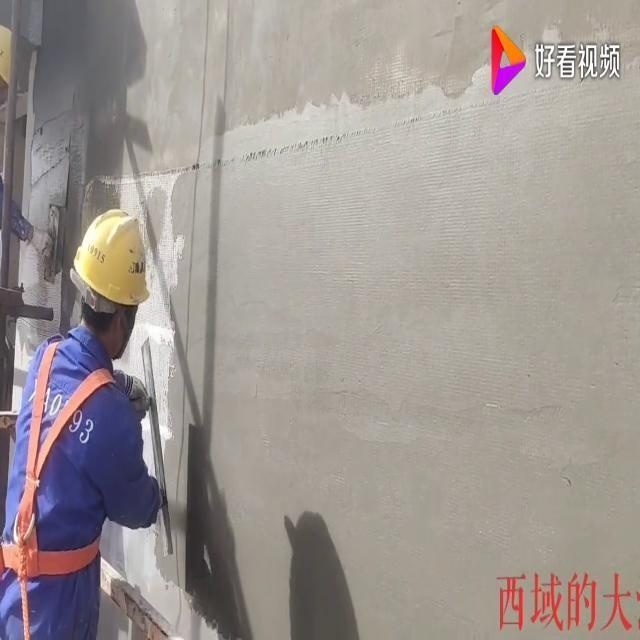Arnes_seguridad: (0, 315, 122, 607)
